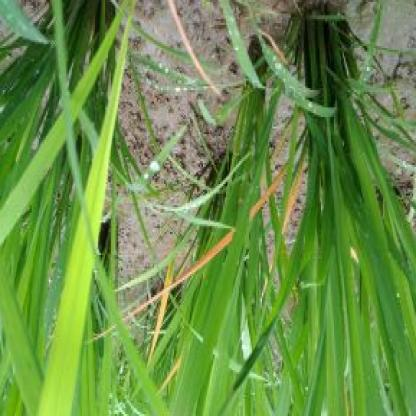Tungro: (144, 224, 183, 364)
